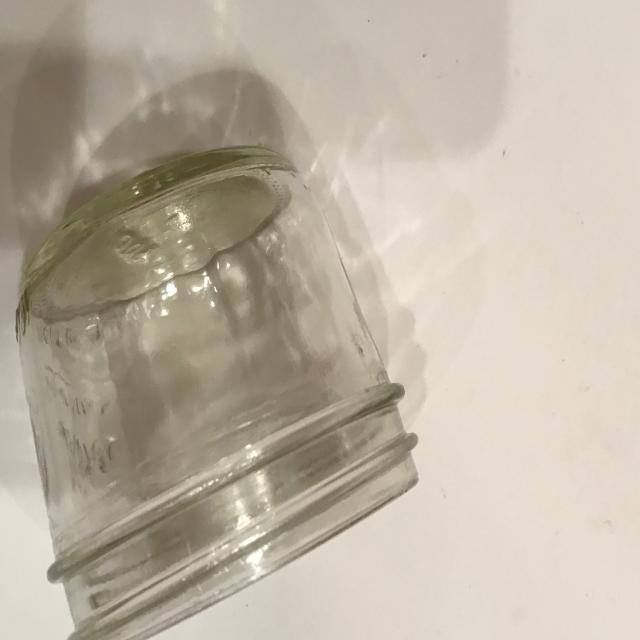glass: (22, 147, 426, 612)
